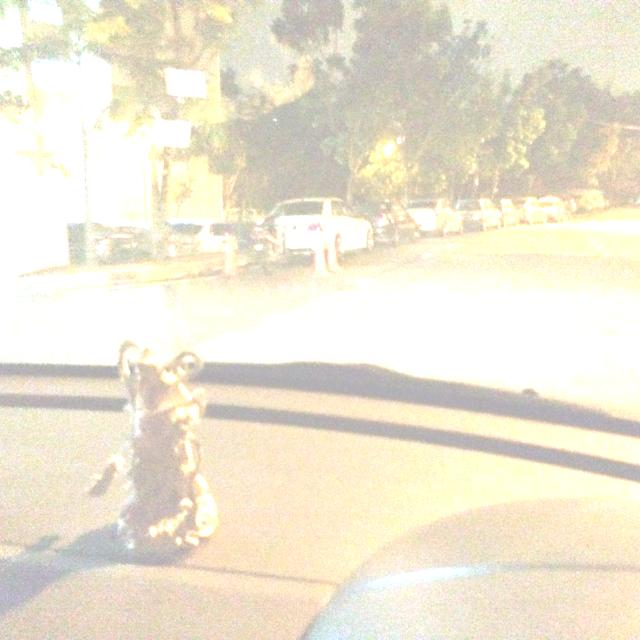Motorbike: (242, 208, 296, 278)
